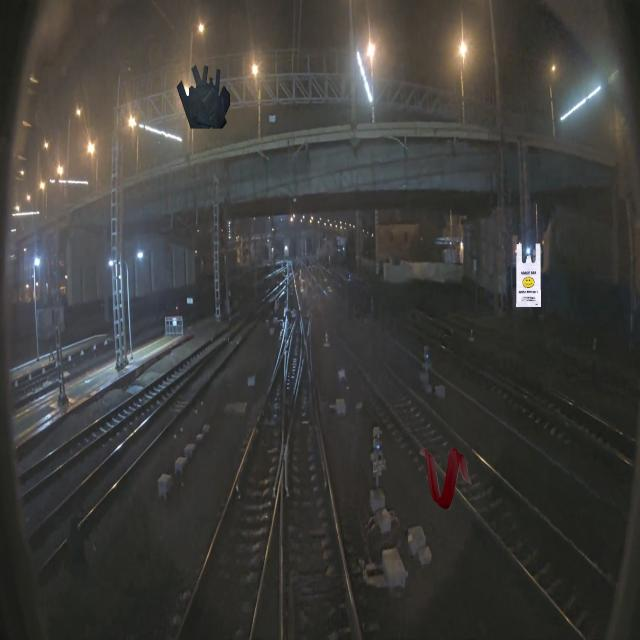floating object: (419, 446, 473, 510)
plastic bag: (176, 64, 230, 128), (516, 243, 541, 307)
